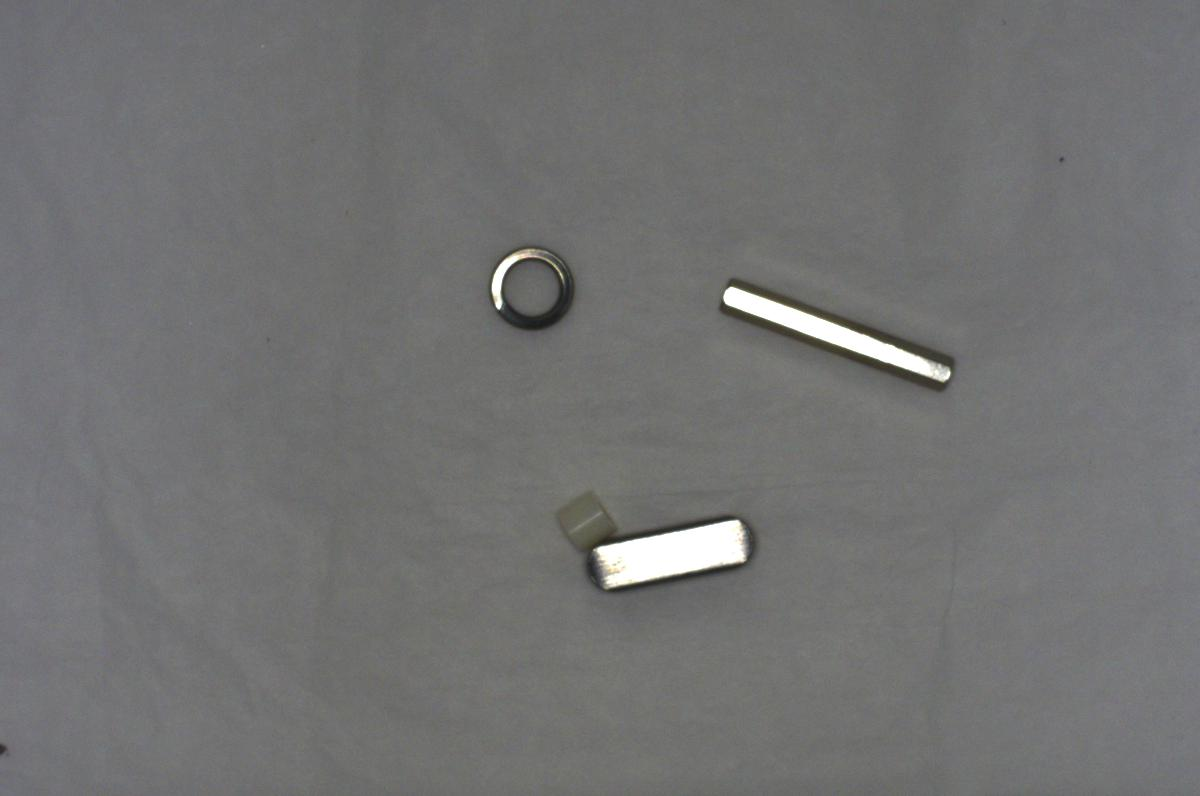Double hexagonal column: (713, 279, 959, 393)
Keybar: (587, 514, 765, 588)
Plastic cushion pillar: (551, 476, 614, 554)
Spring washer: (477, 239, 584, 340)
